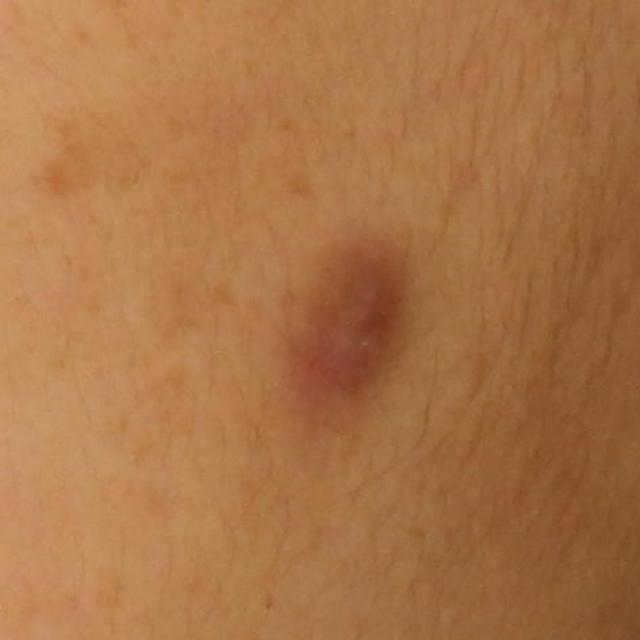nodule: (306, 258, 395, 388)
